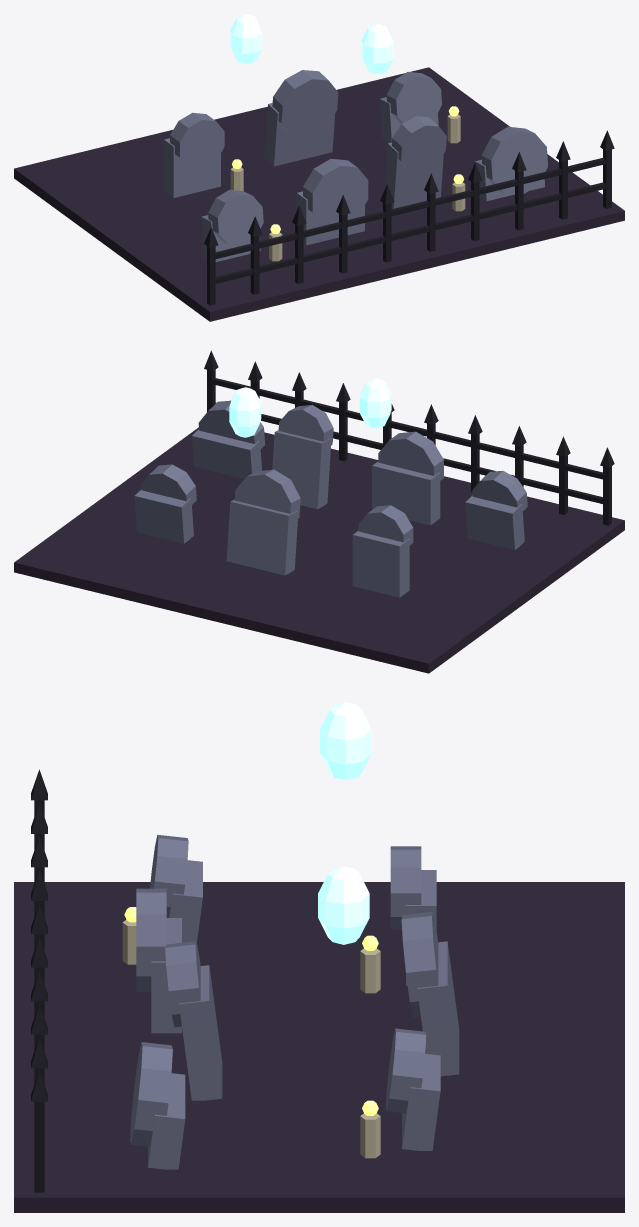
File: prop-graveyard.glb
The picture shows the model from 3 angles, top to bottom: view 1: azimuth 30°, elevation 25°; view 2: azimuth 150°, elevation 25°; view 3: azimuth 270°, elevation 25°; orthographic projection. The views are drawn at different scales.
Visible parts, largest first — view 1: cw_paint, cw_neon; view 2: cw_paint, cw_neon; view 3: cw_paint, cw_neon.
Part boxes in pixels (<box>): cw_paint: <box>14,67,624,321</box>; cw_neon: <box>230,14,393,74</box>; cw_paint: <box>14,350,624,673</box>; cw_neon: <box>229,378,391,437</box>; cw_paint: <box>14,769,624,1212</box>; cw_neon: <box>318,702,371,944</box>.
Bounding box in the file's own units: 4.4 × 1.98 × 3.6.
